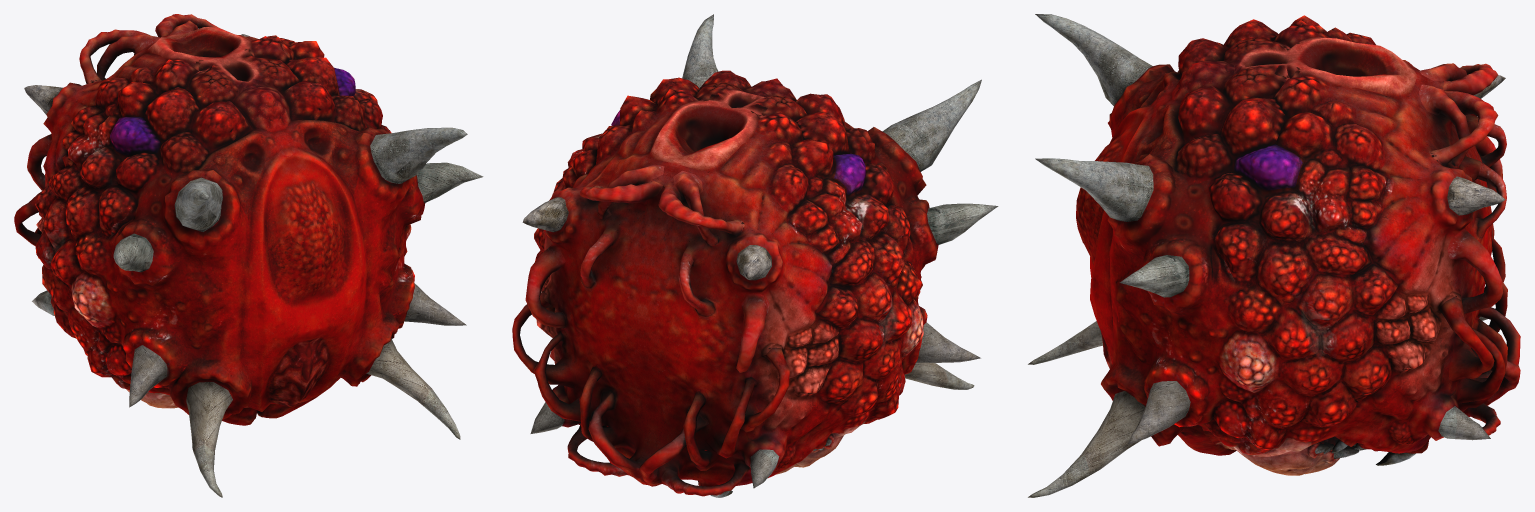
Rendered from Cacodemon3.gltf.
The picture shows the model from 3 angles, left to right: view 1: azimuth 30°, elevation 25°; view 2: azimuth 150°, elevation 25°; view 3: azimuth 270°, elevation 25°; orthographic projection. The views are drawn at different scales.
Parts seen in each view (by area): view 1: Cube; view 2: Cube; view 3: Cube.
Part boxes in pixels (bbox=[...]): Cube: bbox=[14, 14, 483, 497]; Cube: bbox=[512, 14, 998, 497]; Cube: bbox=[1028, 14, 1520, 497].
Bounding box in the file's own units: 2.5 × 2.3 × 2.55.
Materials: 1 (1 with a texture image).
